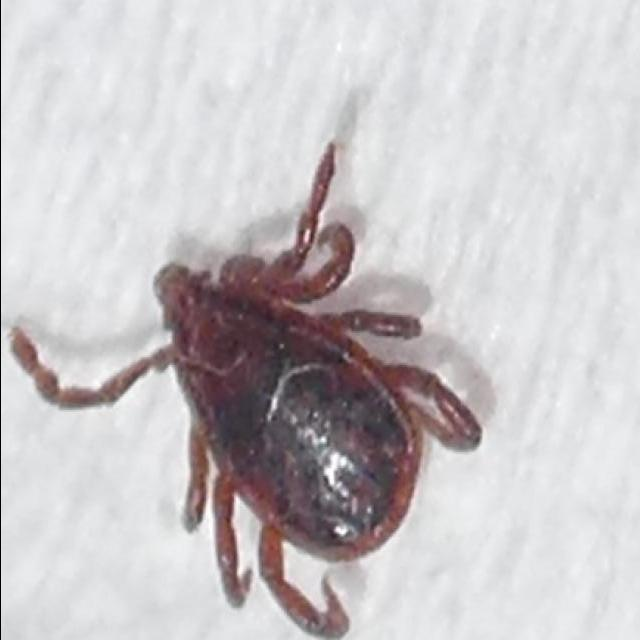Rhipicephalus Sanguineus-M: (9, 143, 482, 640)
